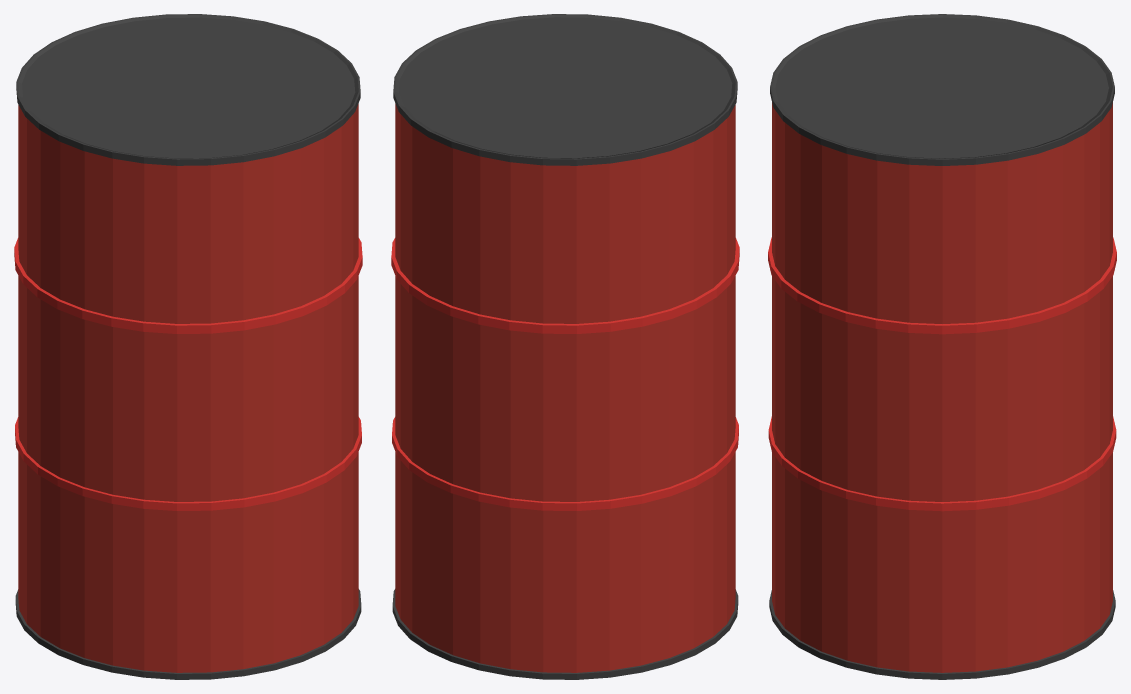
Rendered from BarrelWithBothLid(Metal).fbx.
The picture shows the model from 3 angles, left to right: view 1: azimuth 30°, elevation 25°; view 2: azimuth 150°, elevation 25°; view 3: azimuth 270°, elevation 25°; orthographic projection.
Visible parts, largest first — view 1: MetalBarrel; view 2: MetalBarrel; view 3: MetalBarrel.
Part boxes in pixels (left/top/right/bottom): MetalBarrel: left=14, top=14, right=362, bottom=679; MetalBarrel: left=391, top=14, right=739, bottom=679; MetalBarrel: left=768, top=14, right=1116, bottom=679.
Size of the model in its own units: 364 by 599 by 364.
